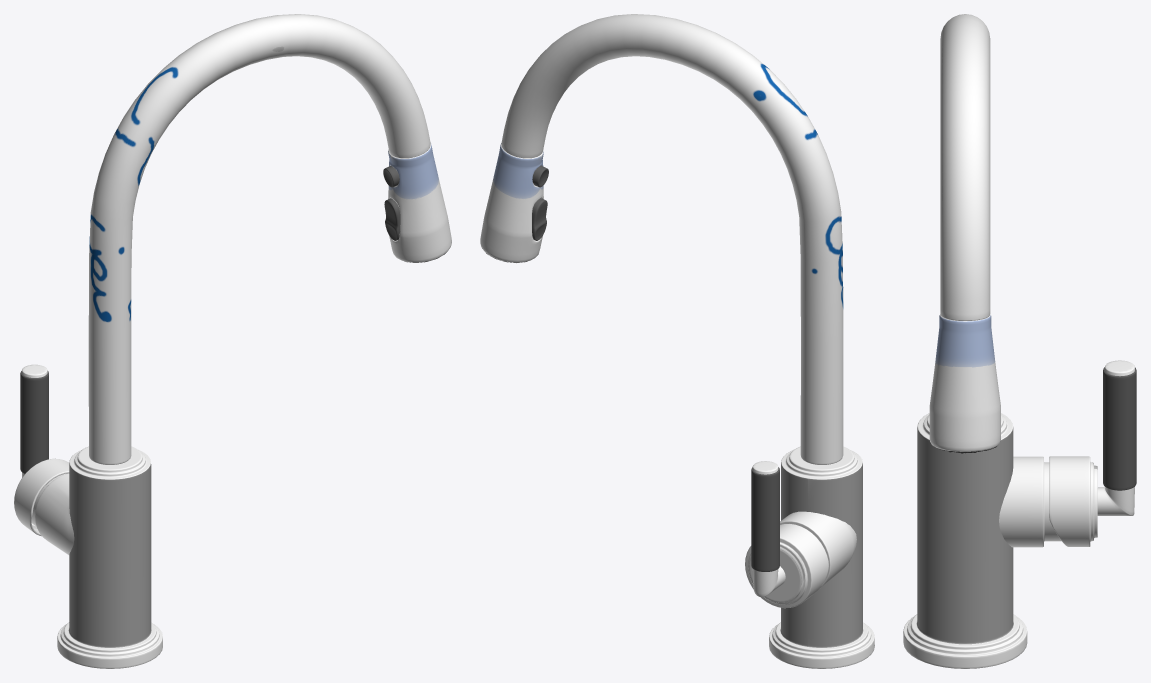
Rendered from water2.glb.
3 renders of one model, left to right at view 1: azimuth 30°, elevation 25°; view 2: azimuth 150°, elevation 25°; view 3: azimuth 270°, elevation 25°, orthographic. The views are drawn at different scales.
Visible parts, largest first — view 1: faucet; view 2: faucet; view 3: faucet.
Boxes of the visible parts, x1,y1,x2,y2 form: faucet: (14,14,451,668); faucet: (480,14,874,668); faucet: (903,14,1136,668).
Size of the model in its own units: 0.2926 by 0.43 by 0.1315.
2 materials, 1 textured.
